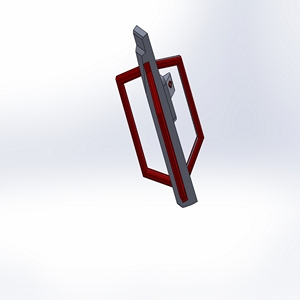submarine: (96, 19, 230, 225)
